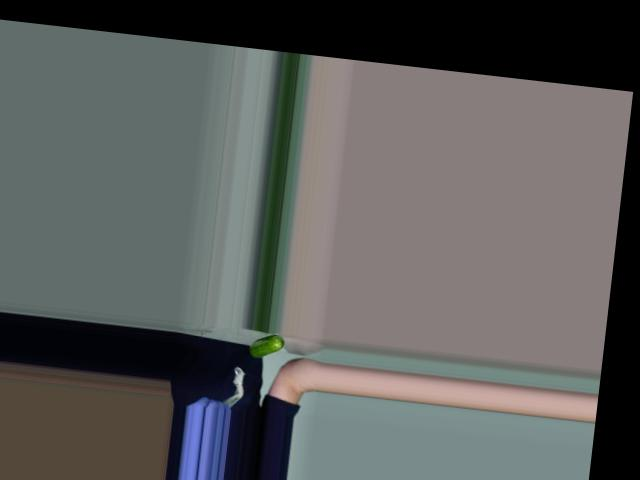cucumber: (249, 331, 285, 360)
